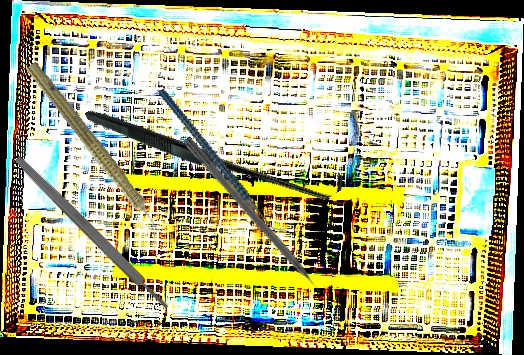Chopper: (158, 65, 288, 257)
Handpiece: (18, 58, 173, 246)
Hook Surgical: (84, 16, 348, 284)
Pusher: (181, 135, 334, 309)
Scalpel Handle: (12, 153, 172, 313)
